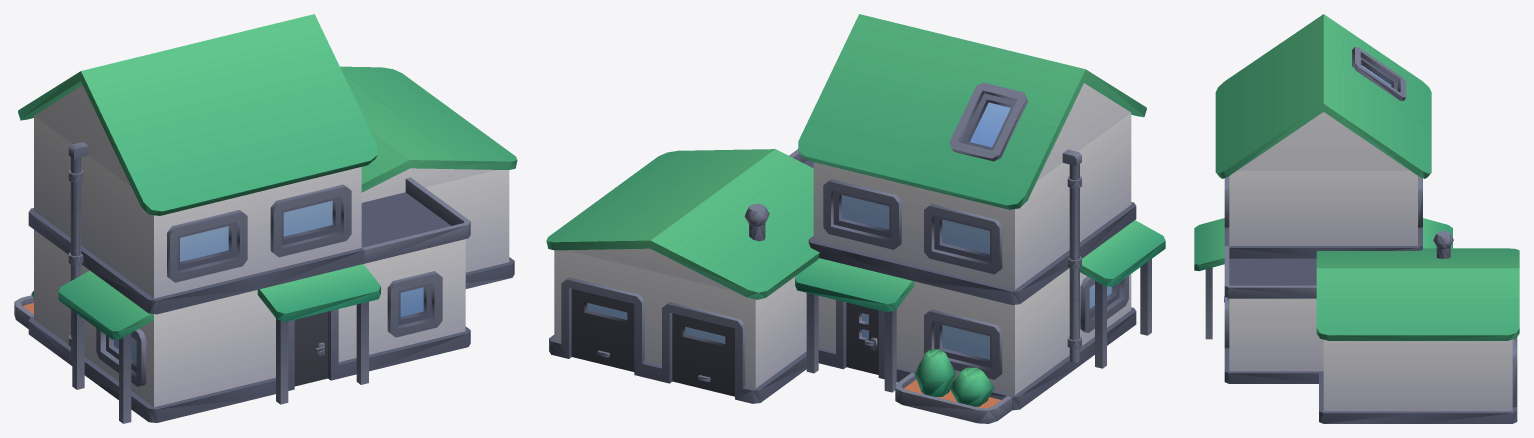
File: ks_house_n.fbx
3 renders of one model, left to right at view 1: azimuth 30°, elevation 25°; view 2: azimuth 150°, elevation 25°; view 3: azimuth 270°, elevation 25°, orthographic. The views are drawn at different scales.
Visible parts, largest first — view 1: ks_house_n_LOD0; view 2: ks_house_n_LOD0; view 3: ks_house_n_LOD0.
Boxes of the visible parts, x1,y1,x2,y2 form: ks_house_n_LOD0: (14,14,517,423); ks_house_n_LOD0: (546,14,1165,423); ks_house_n_LOD0: (1194,14,1519,423).
Size of what is drawn, in the model's own units: 15.17 by 9.67 by 11.71.
